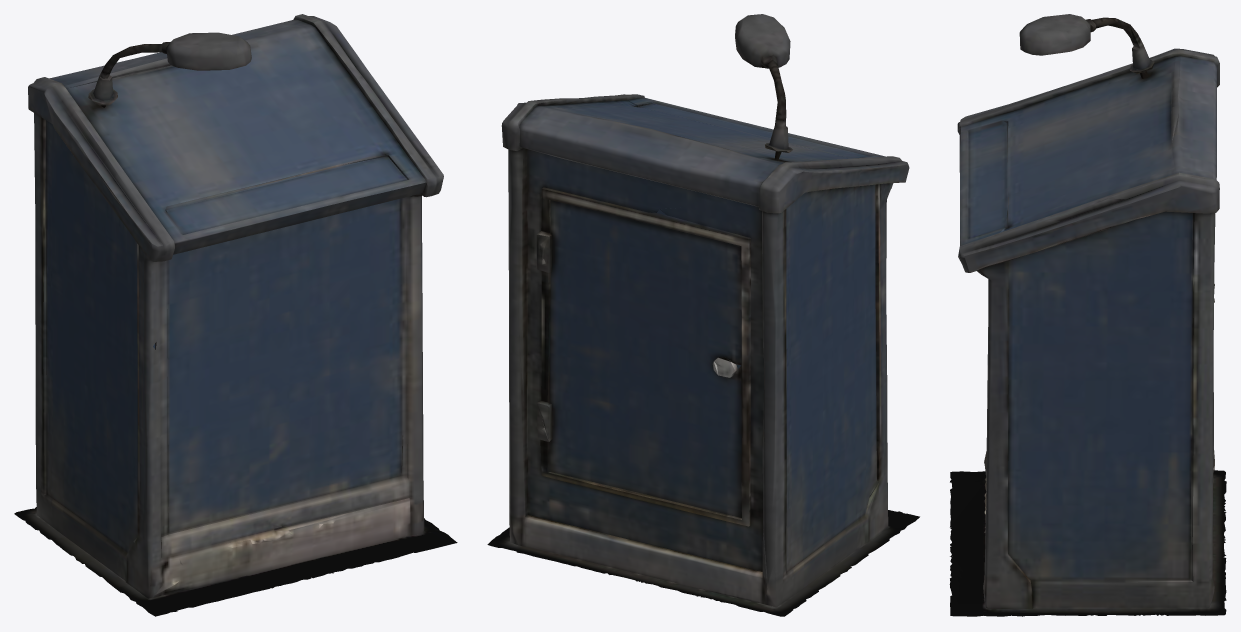
File: p7-security-podium.glb
3 views of the same model, side by side, from view 1: azimuth 30°, elevation 25°; view 2: azimuth 150°, elevation 25°; view 3: azimuth 270°, elevation 25° (orthographic). The views are drawn at different scales.
Visible parts, largest first — view 1: p7-security-podium; view 2: p7-security-podium; view 3: p7-security-podium.
Boxes of the visible parts, x1,y1,x2,y2 form: p7-security-podium: (14,14,457,616); p7-security-podium: (487,14,919,616); p7-security-podium: (949,14,1226,616).
Bounding box in the file's own units: 0.75 × 1.2 × 0.6.
1 material, 1 textured.
